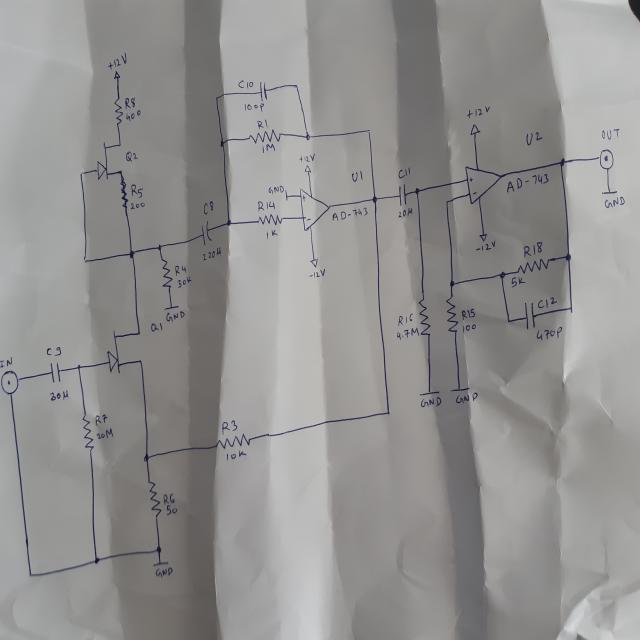capacitor: (523, 301, 536, 331), (201, 221, 211, 247), (50, 361, 61, 384), (398, 184, 408, 208), (258, 81, 268, 103)
ground: (418, 389, 441, 397), (450, 386, 470, 393), (153, 560, 170, 568), (601, 189, 619, 196), (163, 304, 180, 311), (284, 189, 289, 202)
junction: (558, 157, 566, 167), (93, 556, 101, 566), (155, 545, 163, 555), (498, 270, 506, 279), (565, 252, 572, 262), (449, 279, 456, 288), (143, 452, 149, 461), (220, 138, 225, 148), (305, 133, 311, 141), (385, 409, 391, 417), (28, 571, 34, 579), (156, 243, 162, 251), (227, 218, 232, 227), (372, 196, 378, 203), (414, 187, 420, 194), (506, 317, 512, 324), (366, 127, 372, 134), (568, 306, 574, 313), (214, 94, 220, 101), (444, 199, 450, 205), (75, 365, 82, 370), (80, 170, 84, 178), (293, 83, 298, 89), (84, 256, 88, 263), (130, 252, 134, 258)
resistor: (418, 295, 432, 337), (248, 129, 280, 145), (216, 435, 252, 449), (149, 480, 161, 518), (446, 296, 458, 334), (517, 258, 548, 272), (256, 212, 283, 228), (83, 413, 94, 450), (161, 258, 172, 291), (114, 97, 123, 128), (120, 178, 129, 208)
source: (468, 122, 482, 136), (309, 257, 320, 267), (478, 232, 488, 242), (112, 70, 121, 80), (304, 164, 312, 174)
terminal: (1, 369, 20, 396), (598, 148, 614, 170), (113, 70, 121, 80)
text: (506, 171, 550, 195), (331, 207, 368, 224), (536, 325, 563, 342), (465, 104, 491, 120), (523, 240, 543, 258), (604, 195, 626, 210), (396, 326, 419, 340), (455, 391, 478, 405), (600, 126, 620, 142), (202, 246, 222, 262), (108, 53, 127, 68), (49, 388, 70, 401), (537, 296, 558, 309), (420, 396, 442, 408), (166, 310, 186, 323), (525, 132, 543, 146), (260, 142, 278, 156), (475, 240, 496, 252), (222, 418, 238, 433), (257, 199, 277, 211), (154, 566, 173, 578), (177, 274, 192, 289), (225, 450, 247, 460), (396, 206, 414, 218), (396, 166, 411, 180), (244, 102, 265, 112), (398, 312, 413, 326), (461, 307, 476, 320), (46, 346, 62, 358), (238, 78, 254, 90), (94, 413, 108, 426), (124, 96, 137, 110), (350, 170, 363, 184), (162, 492, 175, 506), (511, 276, 526, 288), (461, 322, 477, 333), (125, 110, 141, 121), (268, 185, 284, 196), (299, 153, 316, 163), (309, 268, 326, 278), (165, 504, 178, 517), (131, 184, 143, 198), (96, 428, 112, 438), (125, 150, 138, 162), (265, 228, 278, 240), (0, 356, 13, 368), (203, 200, 214, 214), (256, 118, 268, 130), (174, 264, 187, 275), (130, 201, 145, 210), (150, 322, 163, 332), (306, 217, 314, 223), (301, 194, 307, 201), (468, 175, 473, 183), (472, 189, 477, 196)
transistor: (105, 328, 145, 376), (95, 140, 123, 181)
